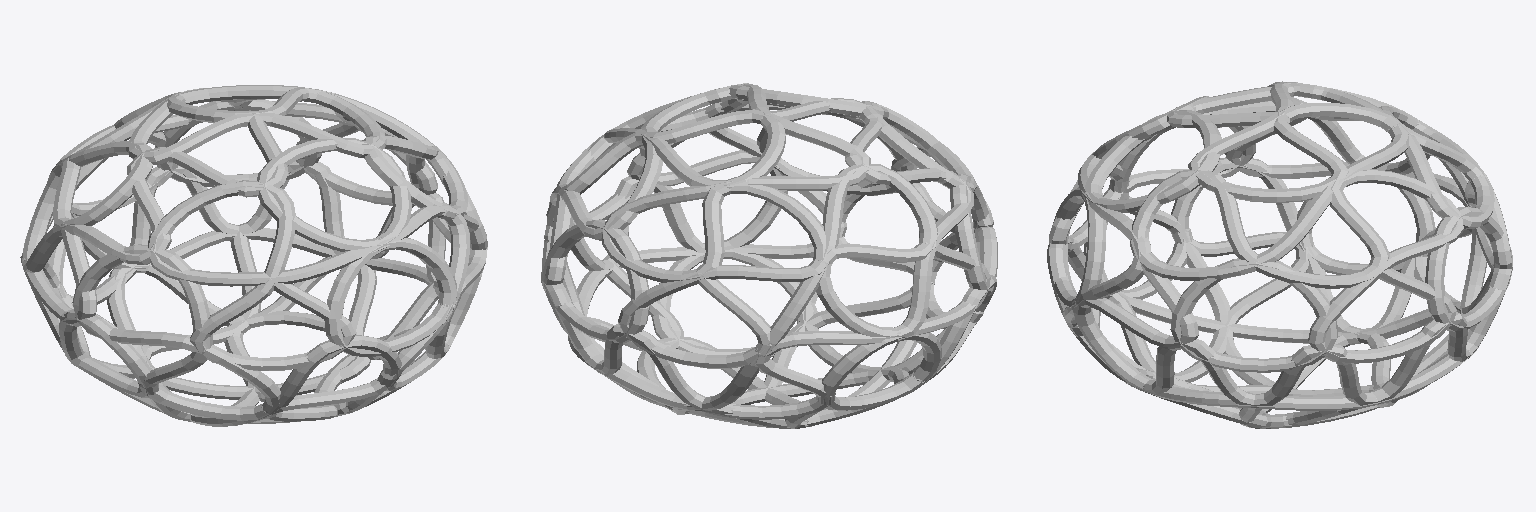
The model's file is ball_t.obj.
3 renders of one model, left to right at view 1: azimuth 30°, elevation 25°; view 2: azimuth 150°, elevation 25°; view 3: azimuth 270°, elevation 25°, orthographic.
Bounding box in the file's own units: 0.2042 × 0.1391 × 0.2054.